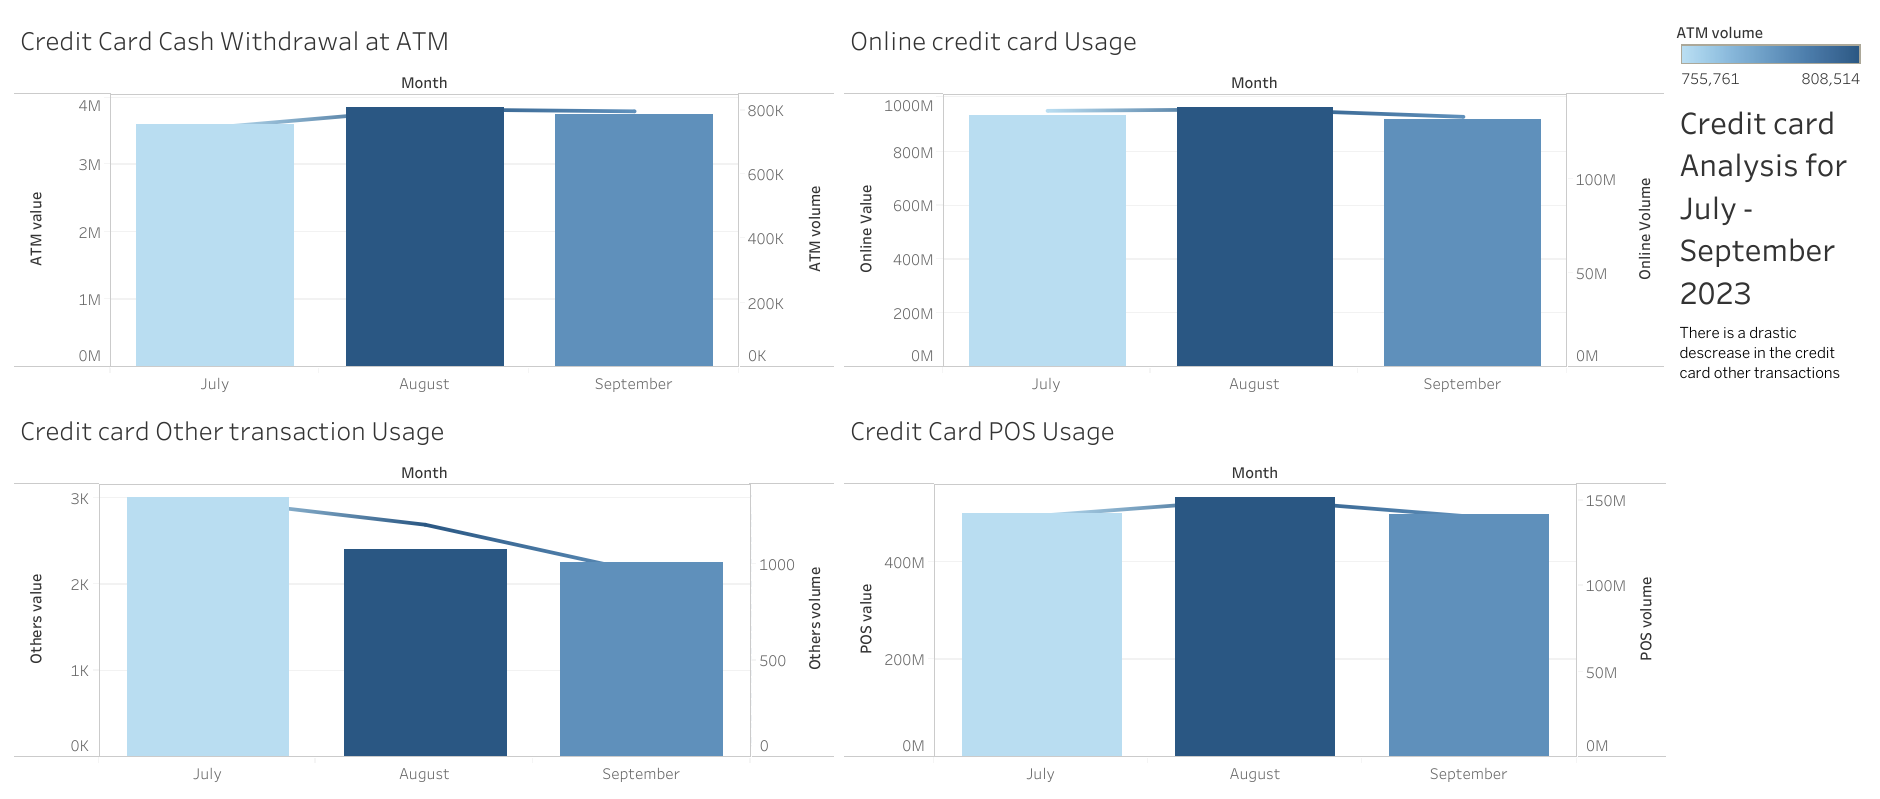

This screenshot's page, from the dashboard's own definition file:
{"tool":"tableau","page":{"name":"Segment analysis on credit card","canvas":[1000,1000],"units":"permille","ordinal":1},"visuals":[{"type":"worksheet","title":"Credit Card Cash Withdrawal at ATM","mark":"Automatic","rows":["ATM value","ATM volume"],"cols":["Month"],"box":[4.8,9.3,446.9,490.7]},{"type":"worksheet","title":"Online credit card Usage","mark":"Automatic","rows":["Online Value","Online Volume"],"cols":["Month"],"box":[451.7,9.3,446.9,490.7]},{"type":"legend","title":"Credit Card Cash Withdrawal at ATM","param":"[federated.0lruhsi1caeera1e4bwsl1k7g455].[sum:ATM volume:qk]","box":[898.6,9.3,96.6,84.8]},{"type":"text","box":[898.6,94.1,96.6,302]},{"type":"text","box":[898.6,396,96.6,97.6]},{"type":"worksheet","title":"Credit card Other transaction Usage","mark":"Automatic","rows":["Others value","Others volume"],"cols":["Month"],"box":[4.8,500,446.9,490.7]},{"type":"worksheet","title":"Credit Card POS Usage","mark":"Automatic","rows":["POS value","POS volume"],"cols":["Month"],"box":[451.7,500,446.9,490.7]}]}

Visuals, with their boxes on the dashboard's canvas, which has no fixed pixel size, in thousandths of its width and height (x1, y1, x2, y2). These are canvas units, not pixel positions in the 1880x799 screenshot, which may show the page scaled, cropped or inside an application window:
"Credit Card Cash Withdrawal at ATM" worksheet: crop(5, 9, 452, 500)
"Online credit card Usage" worksheet: crop(452, 9, 899, 500)
"Credit Card Cash Withdrawal at ATM" legend: crop(899, 9, 995, 94)
text: crop(899, 94, 995, 396)
text: crop(899, 396, 995, 494)
"Credit card Other transaction Usage" worksheet: crop(5, 500, 452, 991)
"Credit Card POS Usage" worksheet: crop(452, 500, 899, 991)
